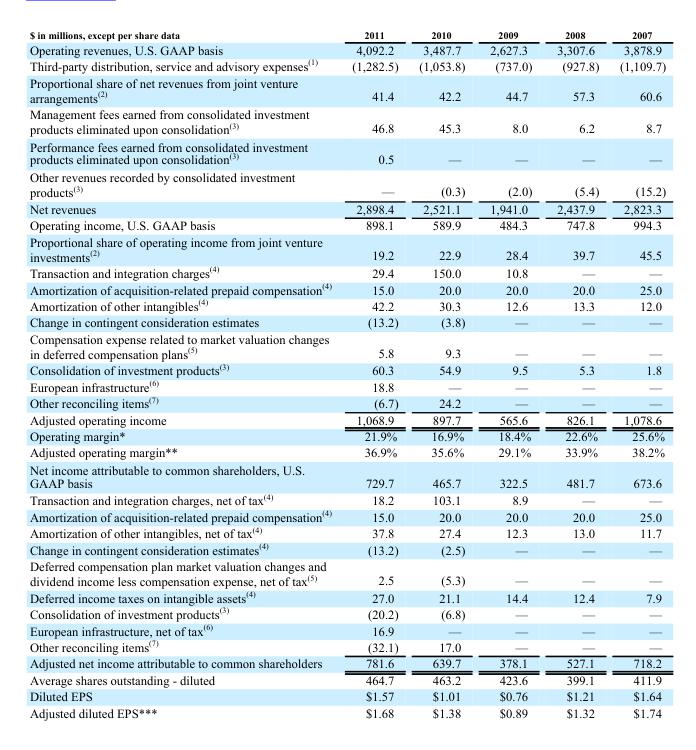table: (28, 28, 665, 719)
table column: (28, 28, 341, 719), (407, 28, 476, 719), (476, 28, 543, 719), (341, 28, 407, 719), (543, 28, 608, 719), (608, 28, 665, 719)
table column header: (28, 28, 665, 41)
table row: (28, 105, 665, 137), (28, 168, 665, 200), (28, 74, 665, 105), (28, 137, 665, 168), (28, 330, 665, 361), (28, 557, 665, 588), (28, 233, 665, 263), (28, 461, 665, 490), (28, 56, 665, 74), (28, 393, 665, 411), (28, 216, 665, 233), (28, 263, 665, 280), (28, 296, 665, 313), (28, 313, 665, 330), (28, 427, 665, 444), (28, 444, 665, 461), (28, 490, 665, 507), (28, 523, 665, 540), (28, 540, 665, 557), (28, 604, 665, 621), (28, 637, 665, 654), (28, 654, 665, 671), (28, 687, 665, 704), (28, 200, 665, 216), (28, 280, 665, 296), (28, 361, 665, 377), (28, 377, 665, 393), (28, 411, 665, 427), (28, 507, 665, 523), (28, 588, 665, 604), (28, 621, 665, 637), (28, 671, 665, 687), (28, 41, 665, 56), (28, 704, 665, 719), (28, 28, 665, 41)
